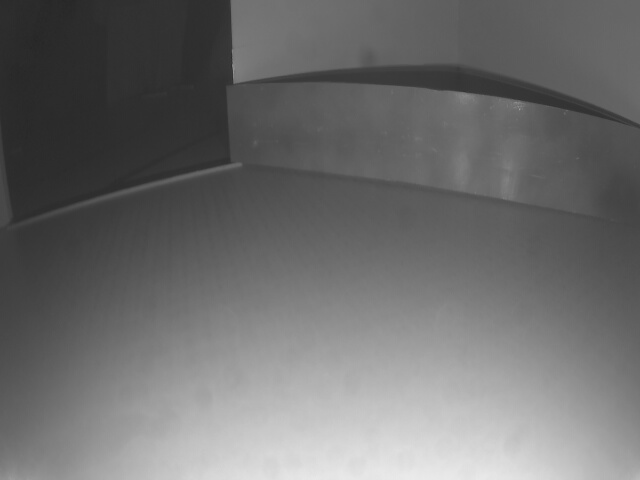Green: (224, 83, 640, 226)
